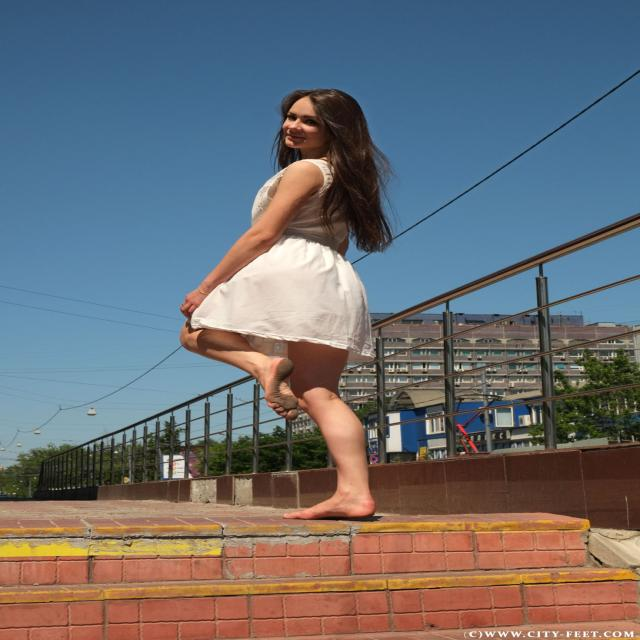No Safety Boots: (264, 357, 299, 421), (282, 498, 377, 520)
